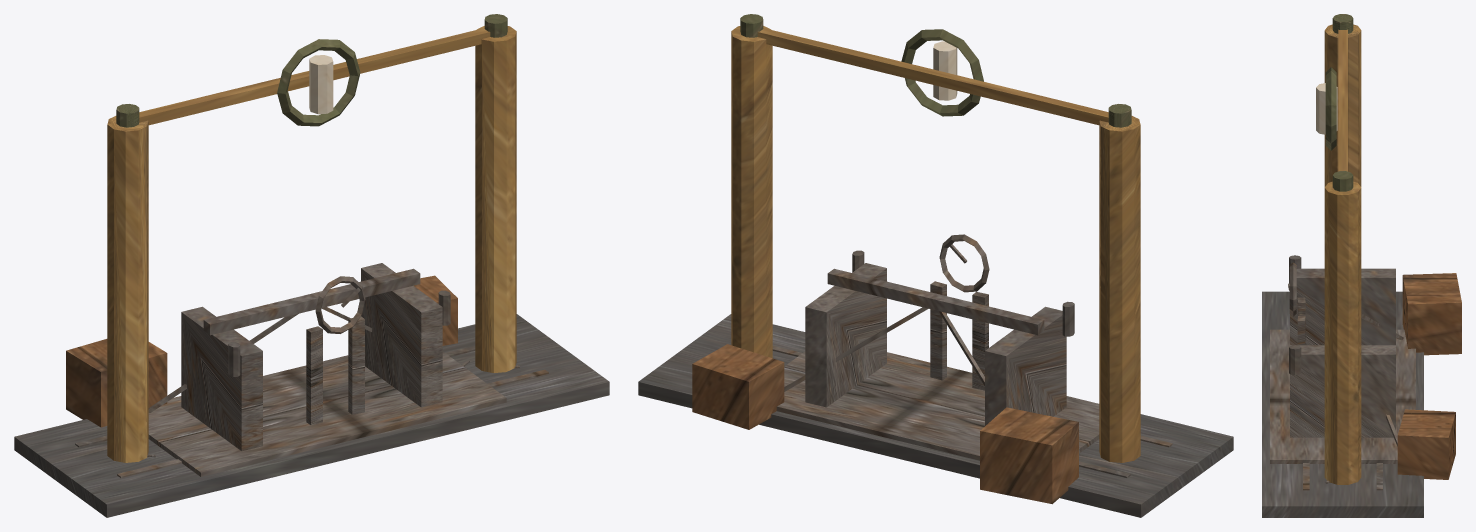
The model's file is south-seed-caravan-gate.glb.
3 renders of one model, left to right at view 1: azimuth 30°, elevation 25°; view 2: azimuth 150°, elevation 25°; view 3: azimuth 270°, elevation 25°, orthographic. The views are drawn at different scales.
Visible parts, largest first — view 1: south-seed-caravan-gate; view 2: south-seed-caravan-gate; view 3: south-seed-caravan-gate.
Part boxes in pixels (<box>): south-seed-caravan-gate: <box>14,14,609,517</box>; south-seed-caravan-gate: <box>638,14,1233,517</box>; south-seed-caravan-gate: <box>1262,14,1461,517</box>.
Bounding box in the file's own units: 9.4 × 6.94 × 3.7.
Materials: 1 (1 with a texture image).
